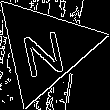N_N: (19, 19, 70, 77)
